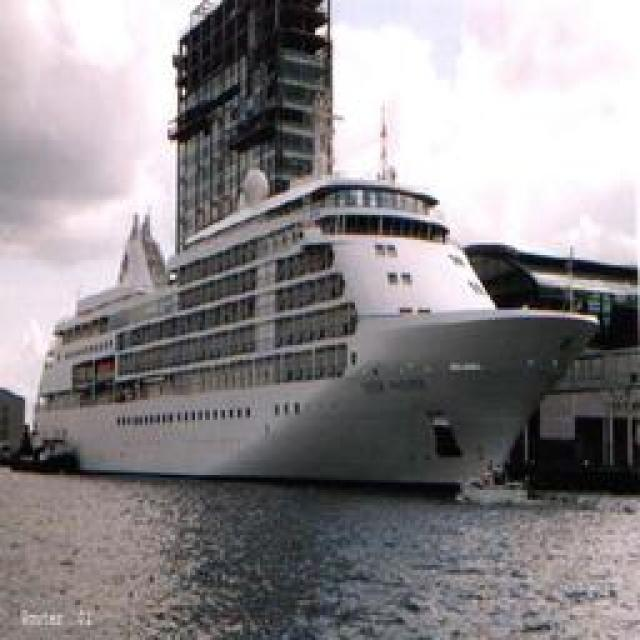CIV_Ship: (29, 182, 604, 488)
